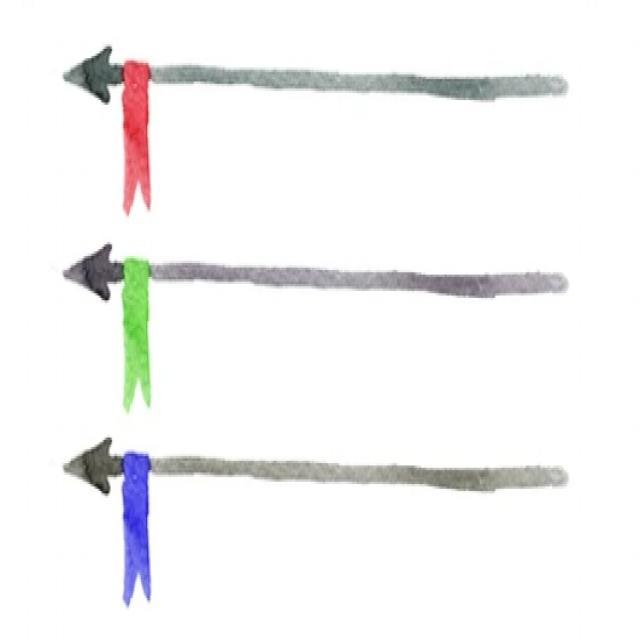spear: (49, 24, 582, 230), (59, 432, 586, 624), (58, 235, 582, 400)
